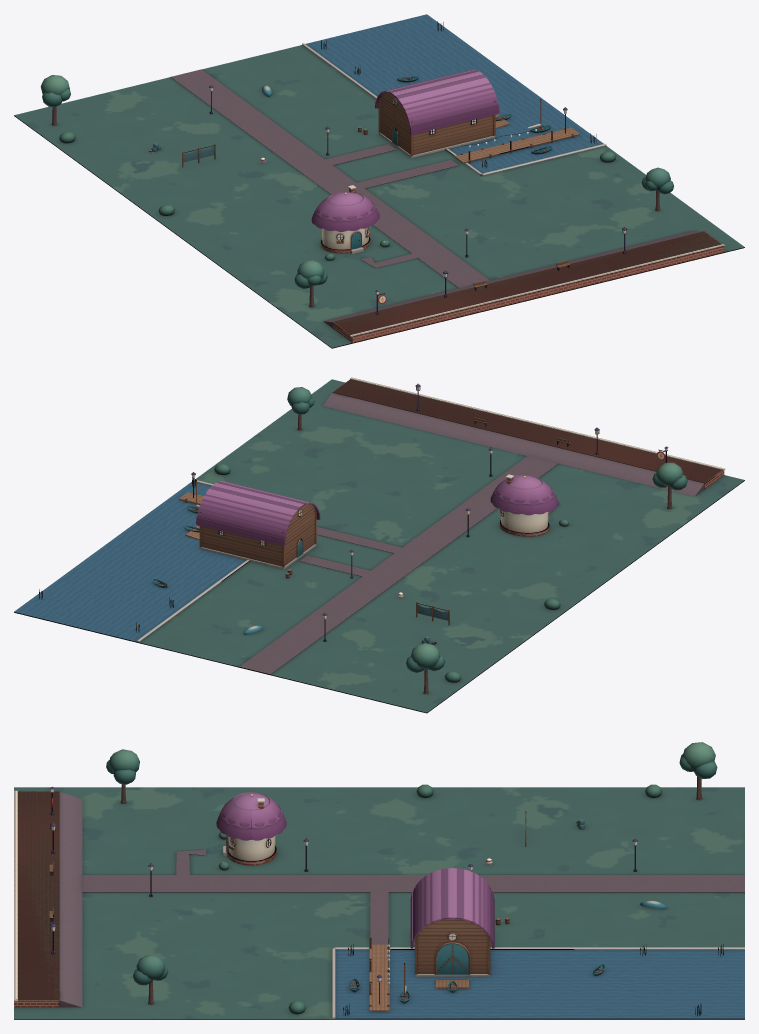
Rendered from stop_boathouse.fbx.
The picture shows the model from 3 angles, top to bottom: view 1: azimuth 30°, elevation 25°; view 2: azimuth 150°, elevation 25°; view 3: azimuth 270°, elevation 25°; orthographic projection. The views are drawn at different scales.
Visible parts, largest first — view 1: stop_boathouse; view 2: stop_boathouse; view 3: stop_boathouse.
Part boxes in pixels (bbox=[...]): stop_boathouse: bbox=[14, 14, 744, 348]; stop_boathouse: bbox=[14, 377, 744, 713]; stop_boathouse: bbox=[14, 742, 744, 1019].
Bounding box in the file's own units: 12000 × 1485 × 16000.
2 materials, 1 textured.
